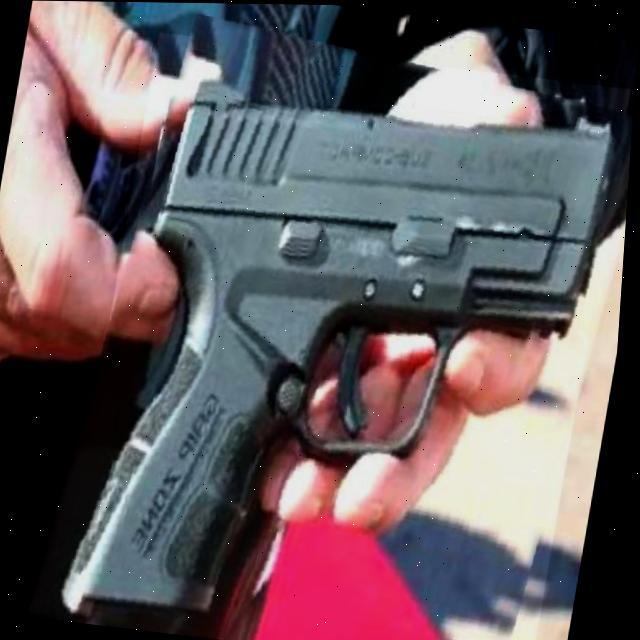pistol: (50, 17, 639, 640)
